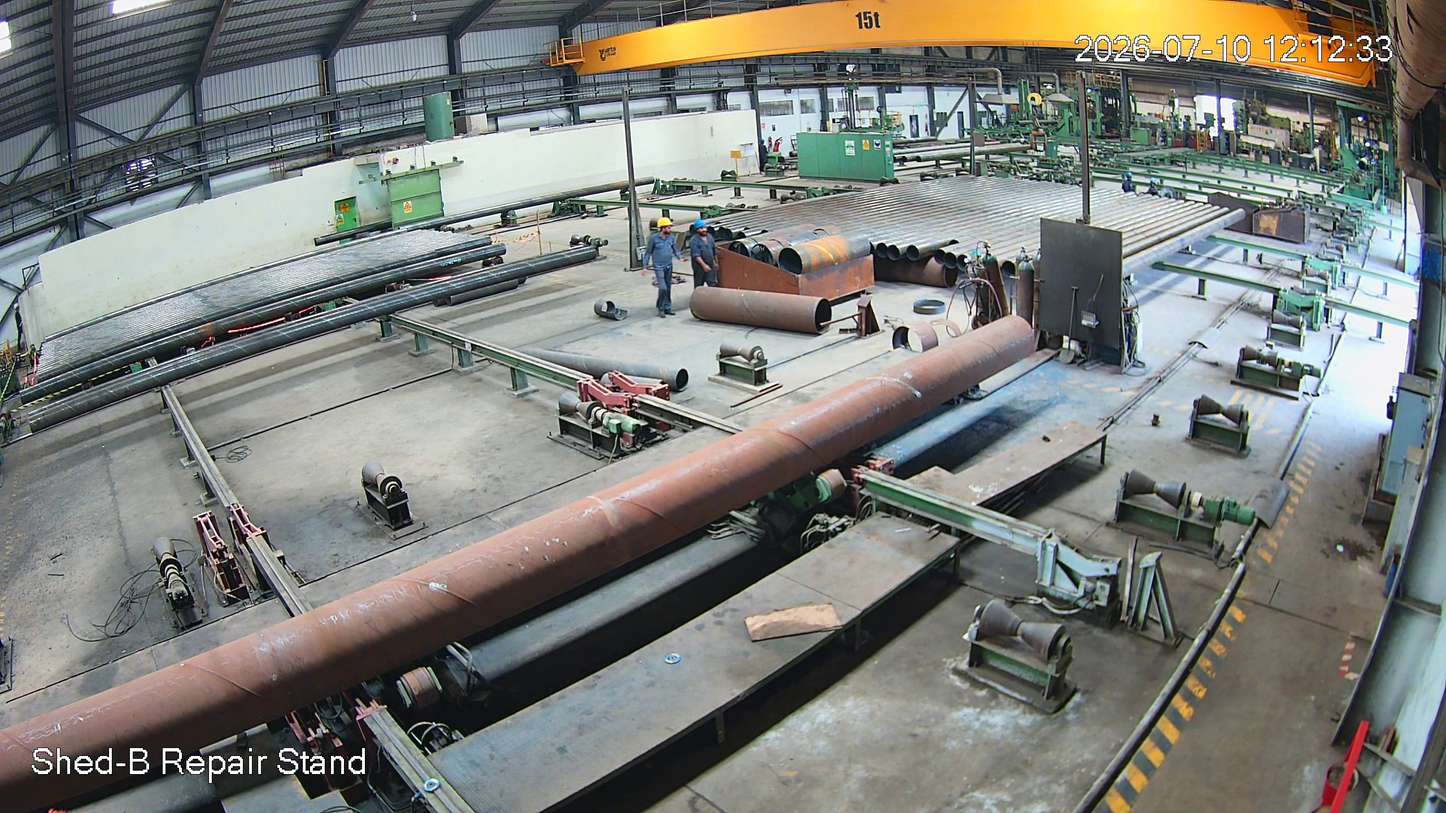Helmet: (691, 218, 711, 243), (656, 217, 674, 237)
Person: (647, 217, 678, 321), (687, 219, 721, 295)
